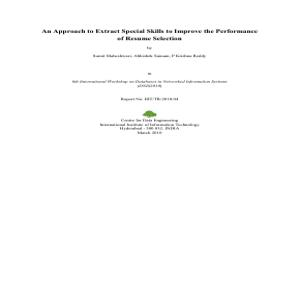image: (141, 105, 161, 119)
text: (42, 25, 254, 101), (95, 118, 201, 135)
